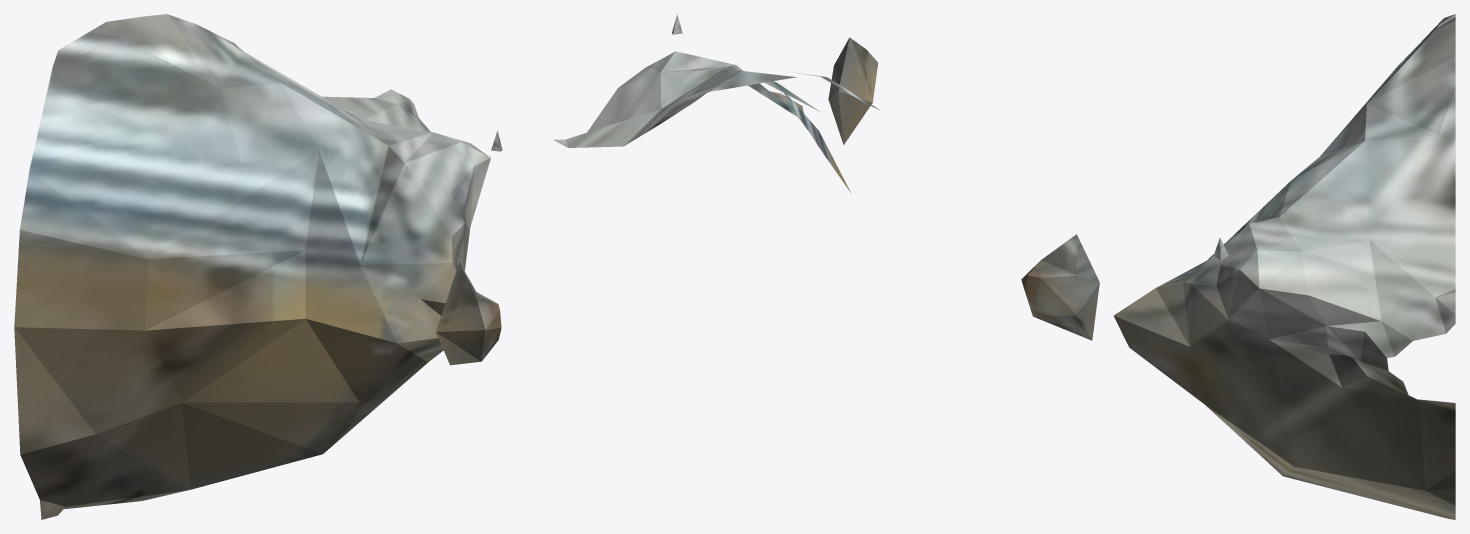
The picture shows the model from 3 angles, left to right: view 1: azimuth 30°, elevation 25°; view 2: azimuth 150°, elevation 25°; view 3: azimuth 270°, elevation 25°; orthographic projection. The views are drawn at different scales.
Bounding box in the file's own units: 1.17 × 1.16 × 0.9989.
Materials: 2 (2 with a texture image).
